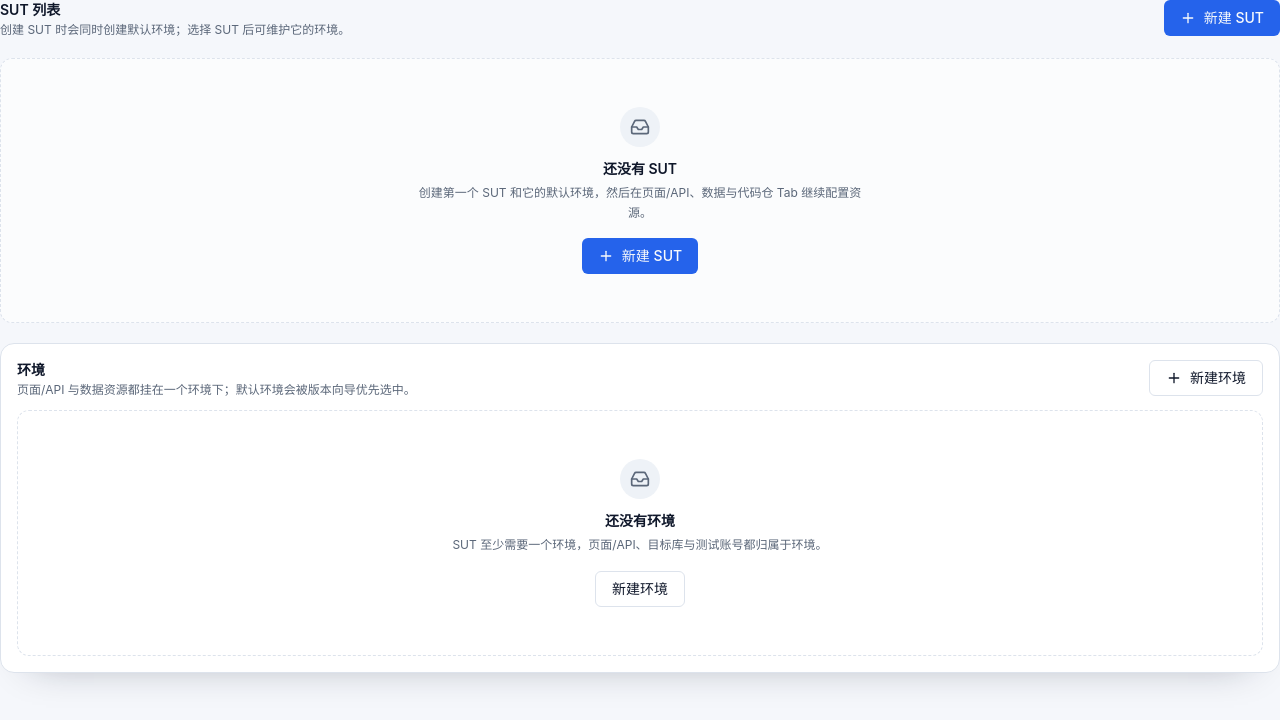
SUTPanel › validates the create-SUT form and creates the default environment in the same flow
Click the button "新建 SUT" in the row of "创建 SUT 时会同时创建默认环境；选择 SUT 后可维护它的环境。". click: (1222, 18)
box: [1164, 0, 1279, 36]
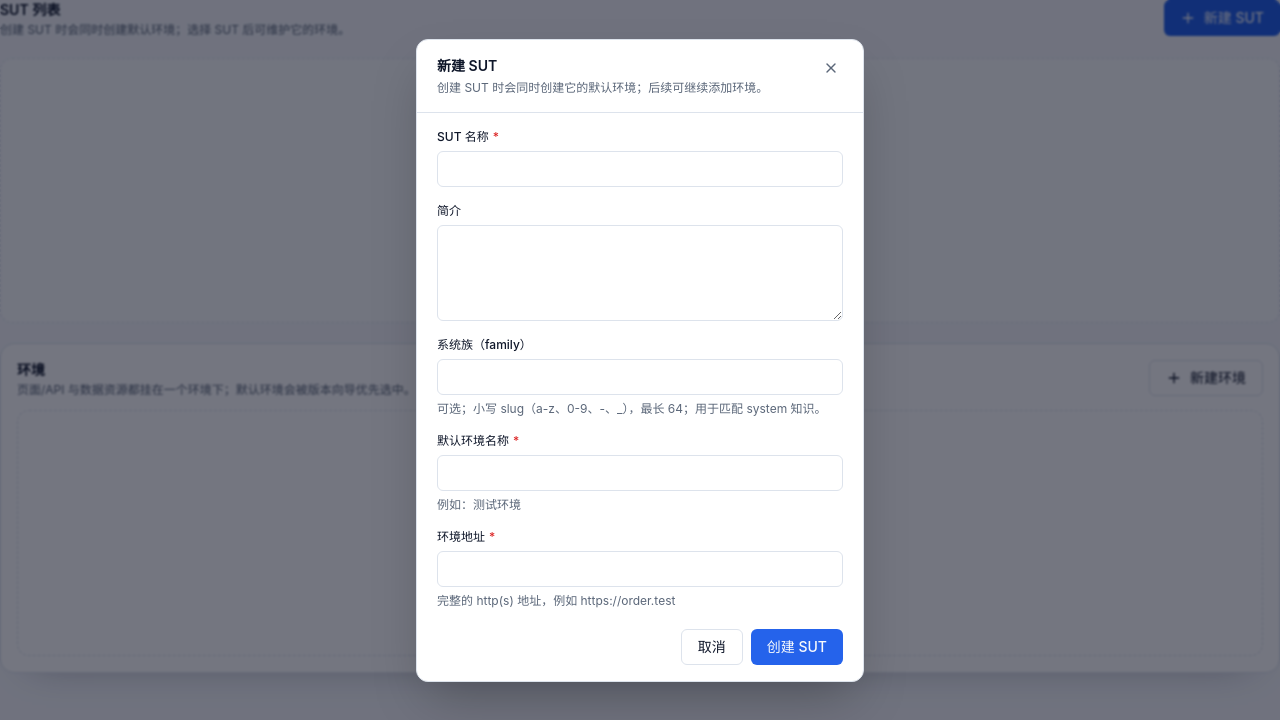
Click the button "创建 SUT". click: (797, 646)
box: [751, 628, 843, 664]
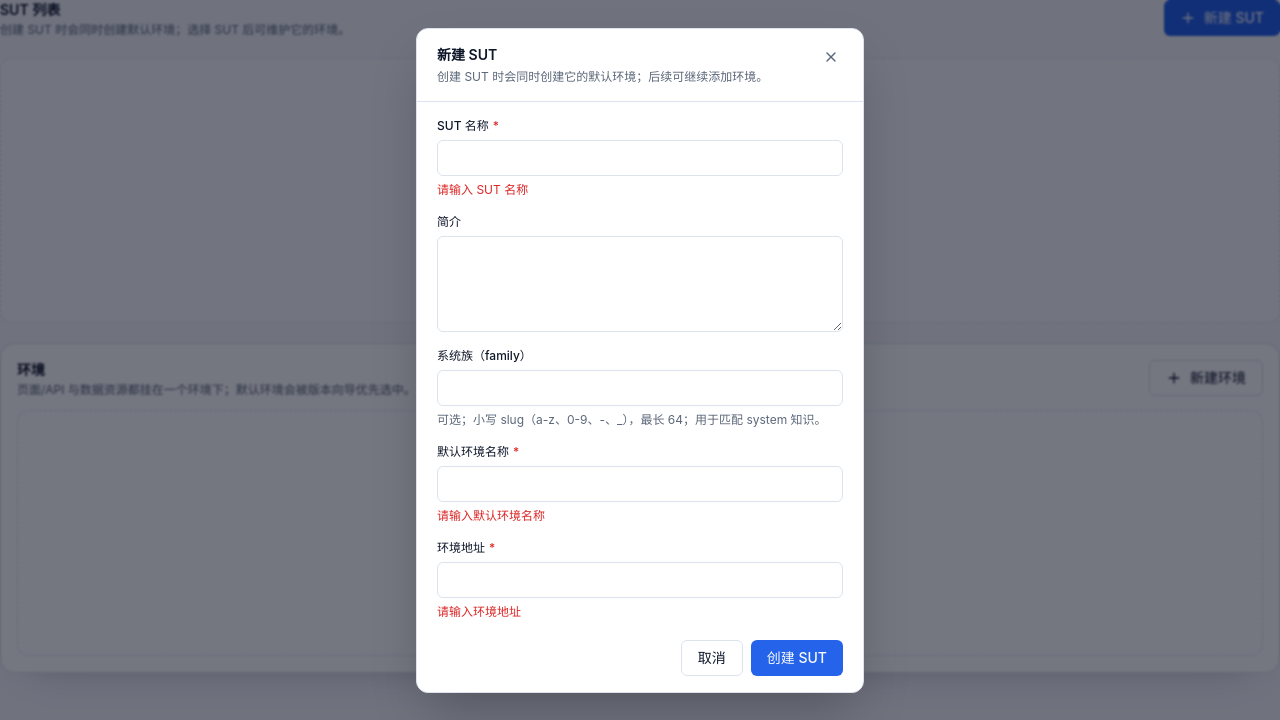
Result: the text "请输入 SUT 名称" is shown at [437, 182, 528, 196]
Type "支付网关" into the field labelled "SUT 名称". click: (640, 158)
box: [437, 140, 843, 176]
Type "支付主链路" into the text box labelled "简介". click: (640, 284)
box: [437, 236, 843, 332]
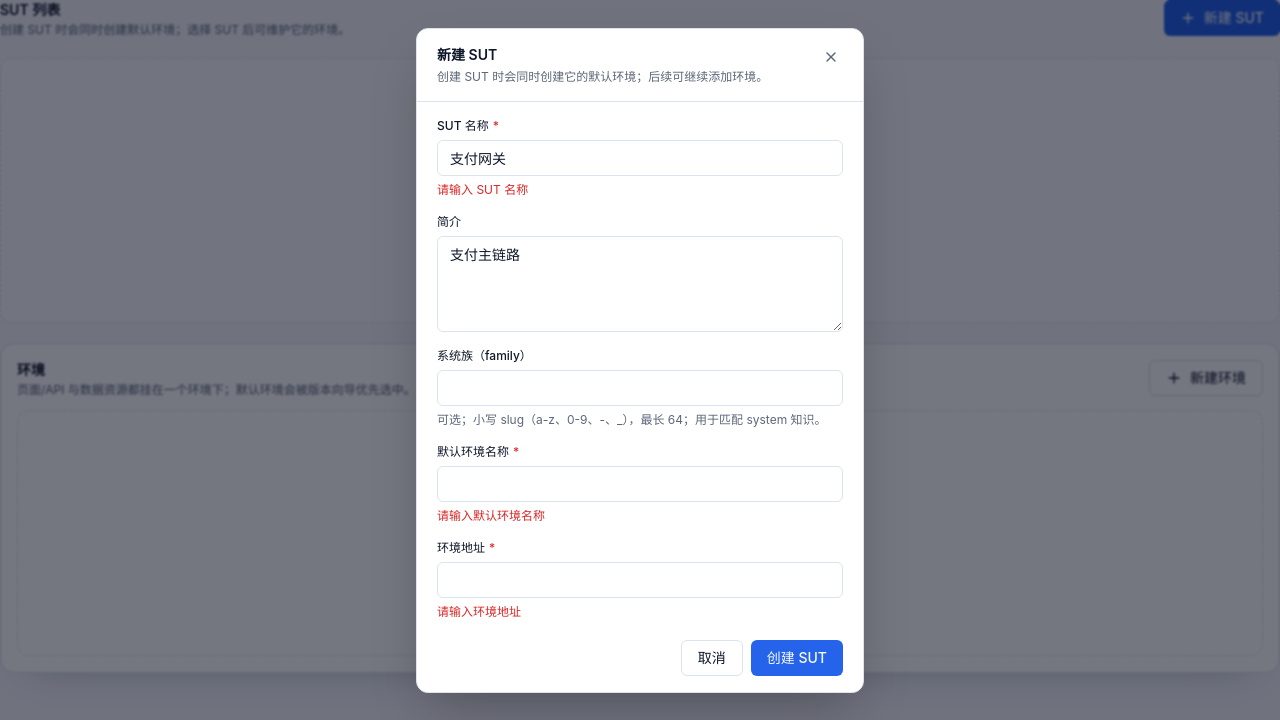
Type "测试环境" into the field labelled "默认环境名称". click: (640, 484)
box: [437, 466, 843, 502]
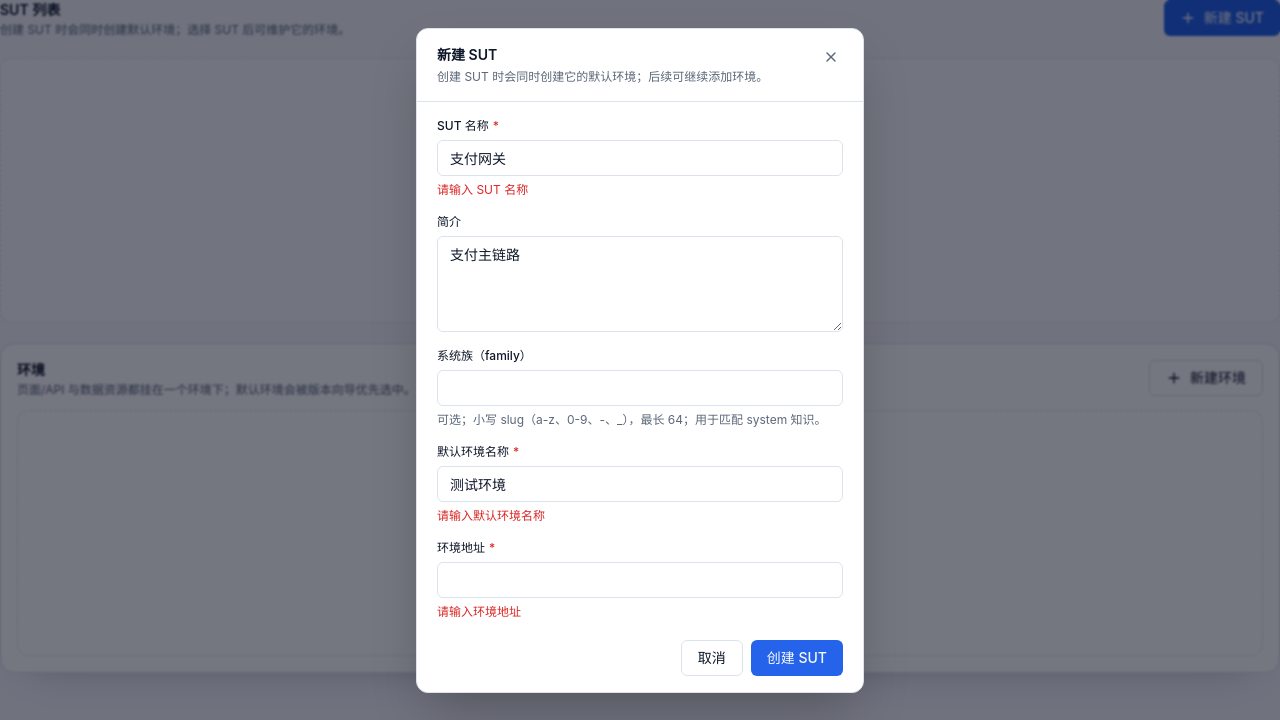
Type "https://pay.test" into the field labelled "环境地址". click: (640, 580)
box: [437, 562, 843, 598]
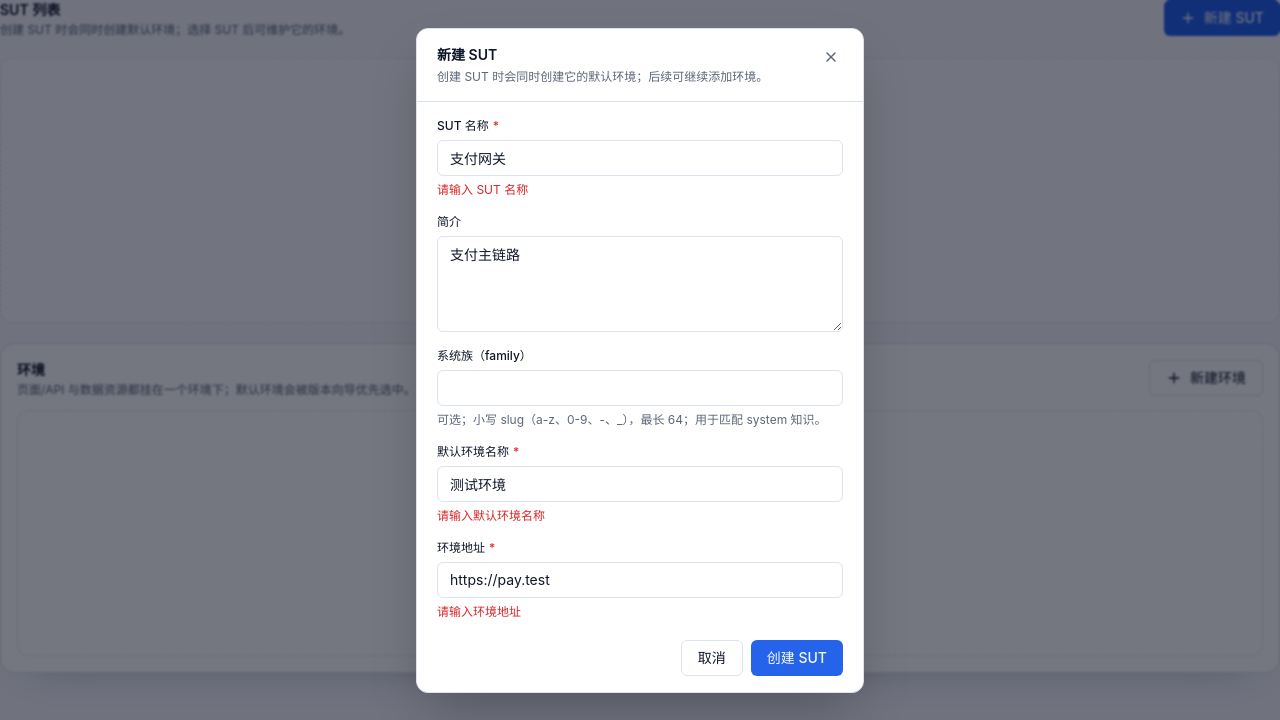
Click the button "创建 SUT". click: (797, 658)
box: [751, 640, 843, 676]
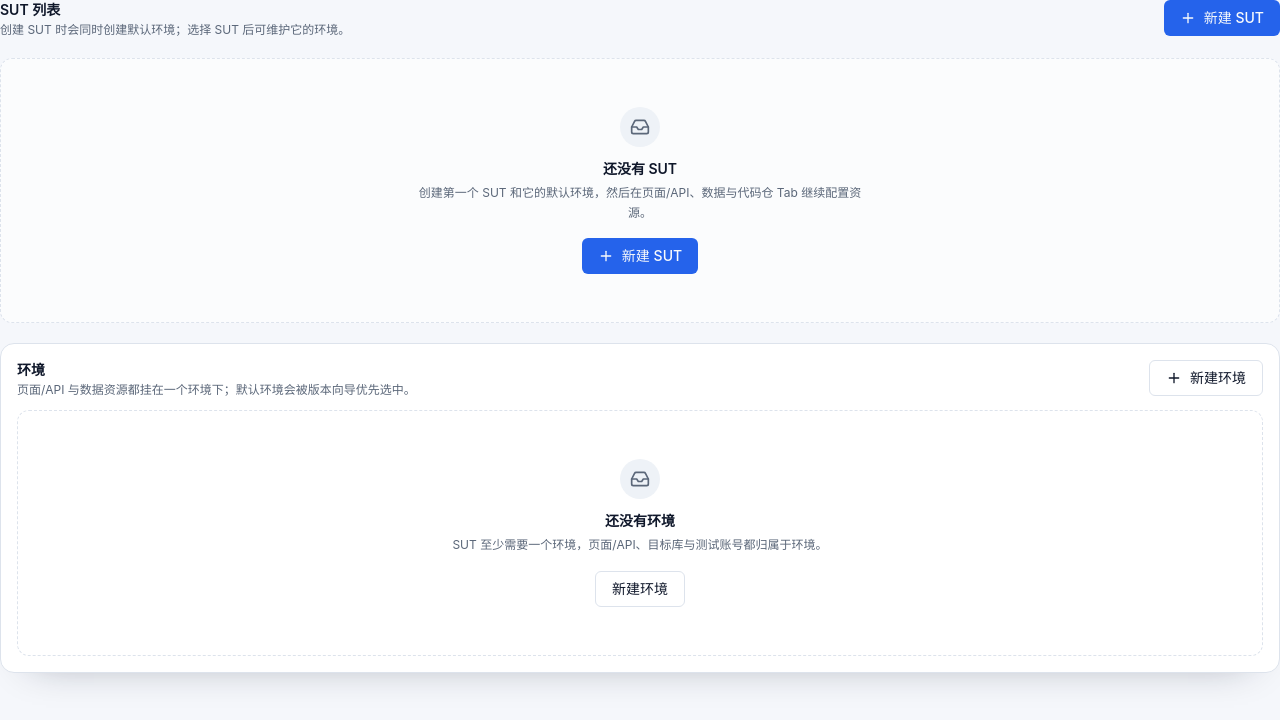
Result: the dialog is gone
